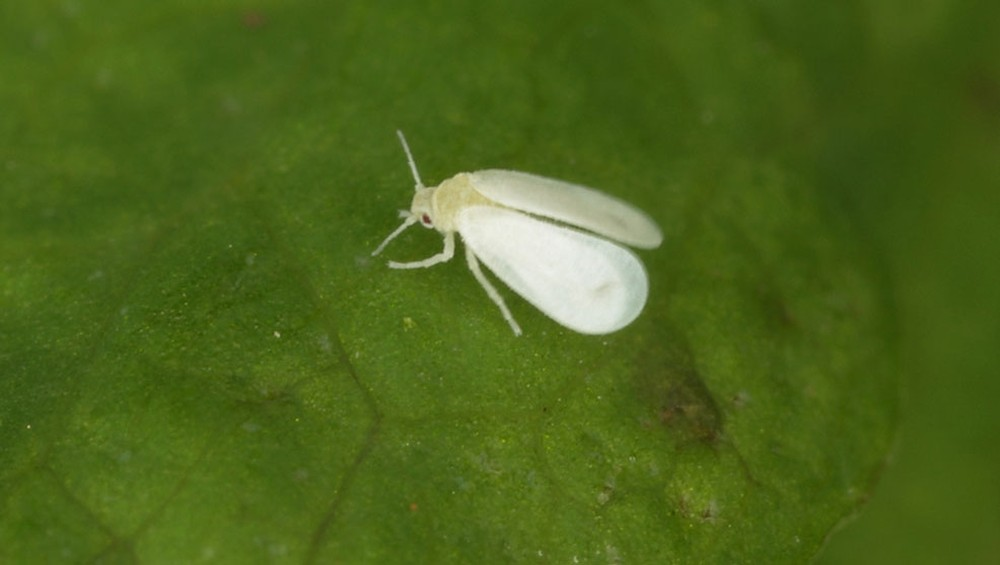Mosca Blanca: (362, 126, 676, 370)
